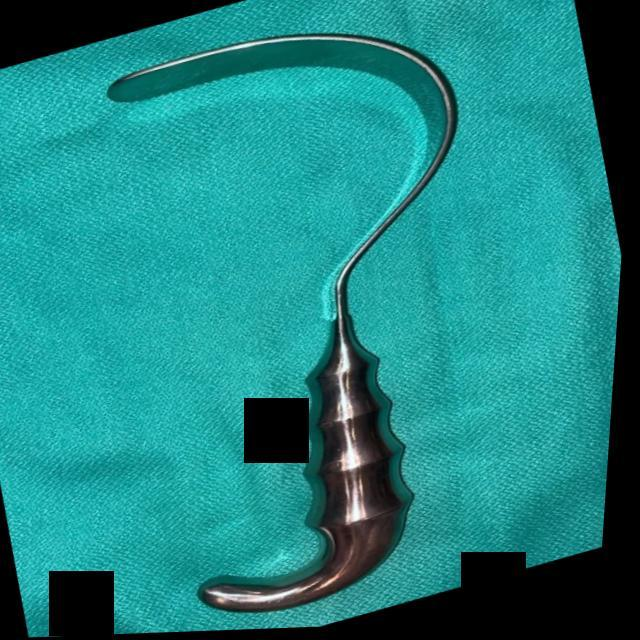Babcock Forceps: (36, 0, 581, 638)
